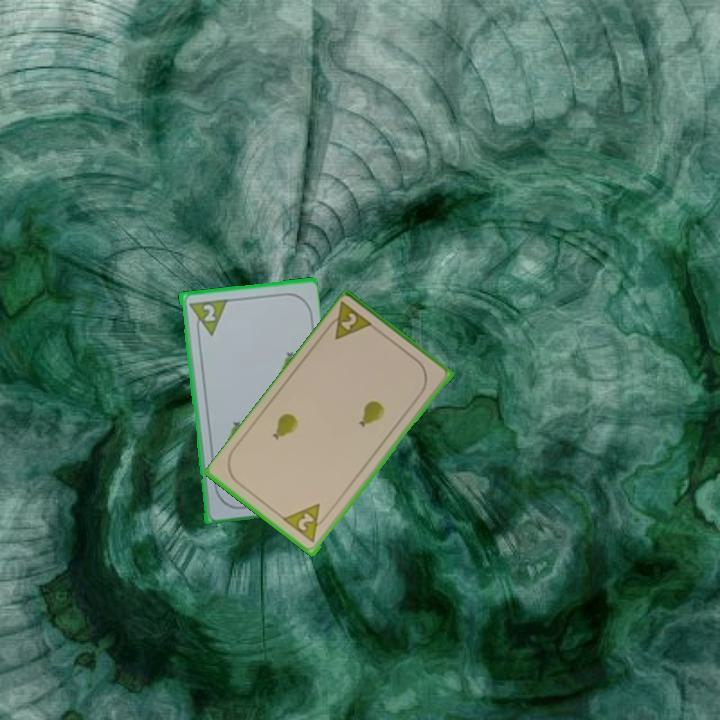2p: (281, 500, 332, 546), (337, 309, 360, 334), (198, 300, 218, 324)
